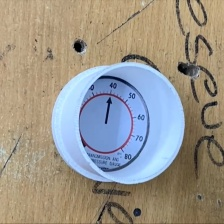gauge: (79, 78, 148, 170)
